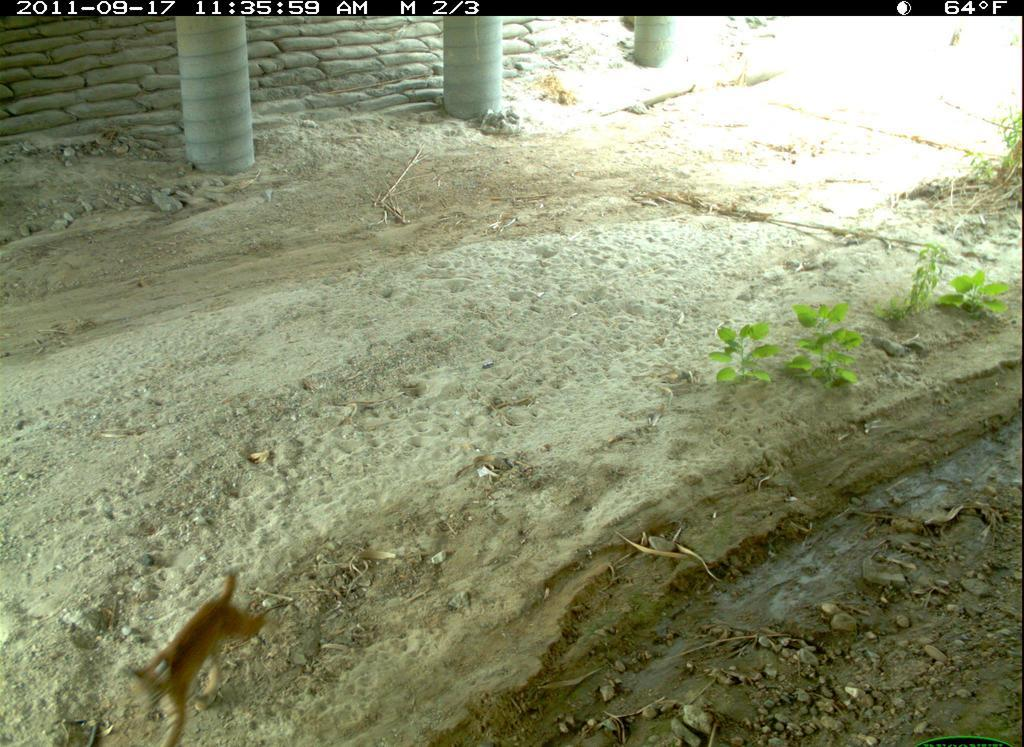bobcat: (109, 580, 287, 747)
